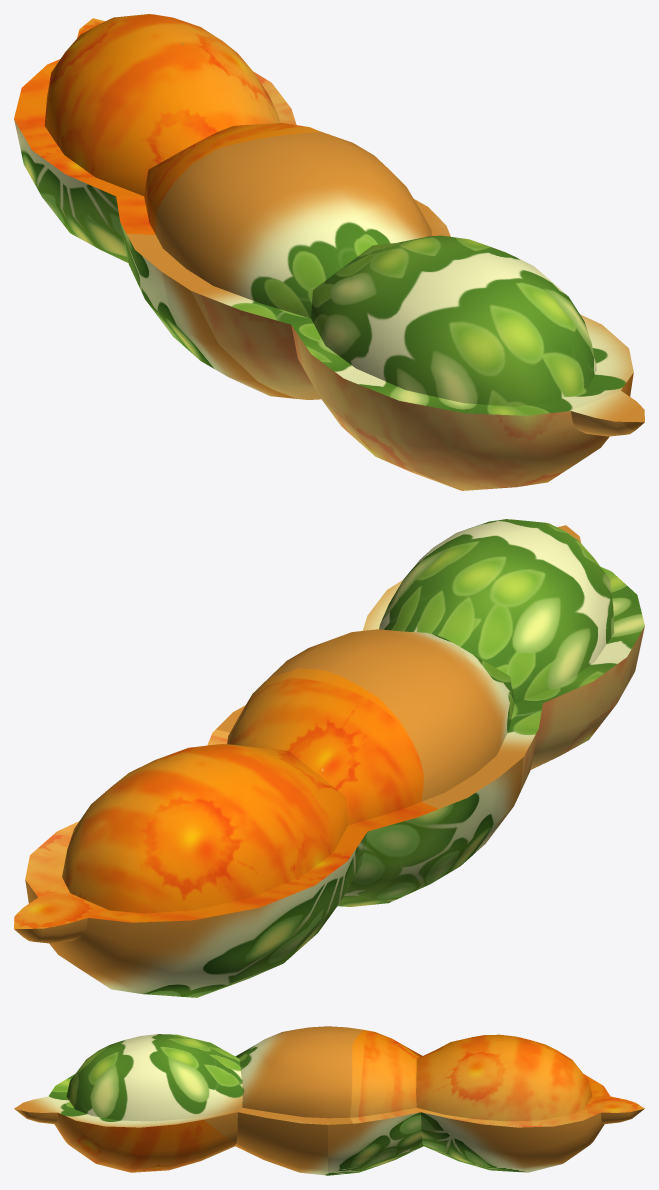
The model's file is Tamarind_Half.fbx.
The picture shows the model from 3 angles, top to bottom: view 1: azimuth 30°, elevation 25°; view 2: azimuth 150°, elevation 25°; view 3: azimuth 270°, elevation 25°; orthographic projection. The views are drawn at different scales.
Parts seen in each view (by area): view 1: Tamarind_Half; view 2: Tamarind_Half; view 3: Tamarind_Half.
Part boxes in pixels (bbox=[...]): Tamarind_Half: bbox=[14, 14, 644, 490]; Tamarind_Half: bbox=[14, 519, 644, 997]; Tamarind_Half: bbox=[14, 1026, 644, 1175].
Bounding box in the file's own units: 20.05 × 16.01 × 69.43.
